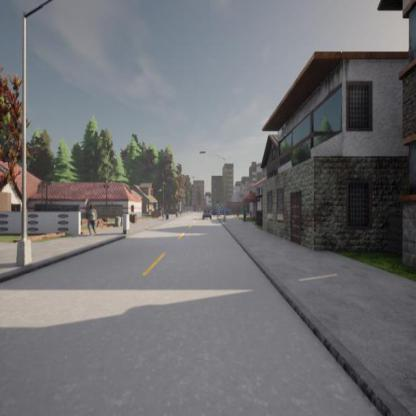person: (87, 203, 98, 235)
